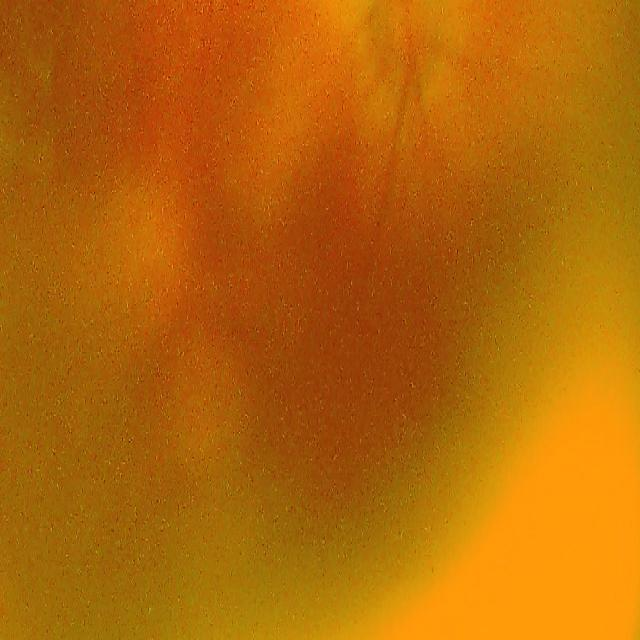optic-nerve: (358, 0, 454, 105)
